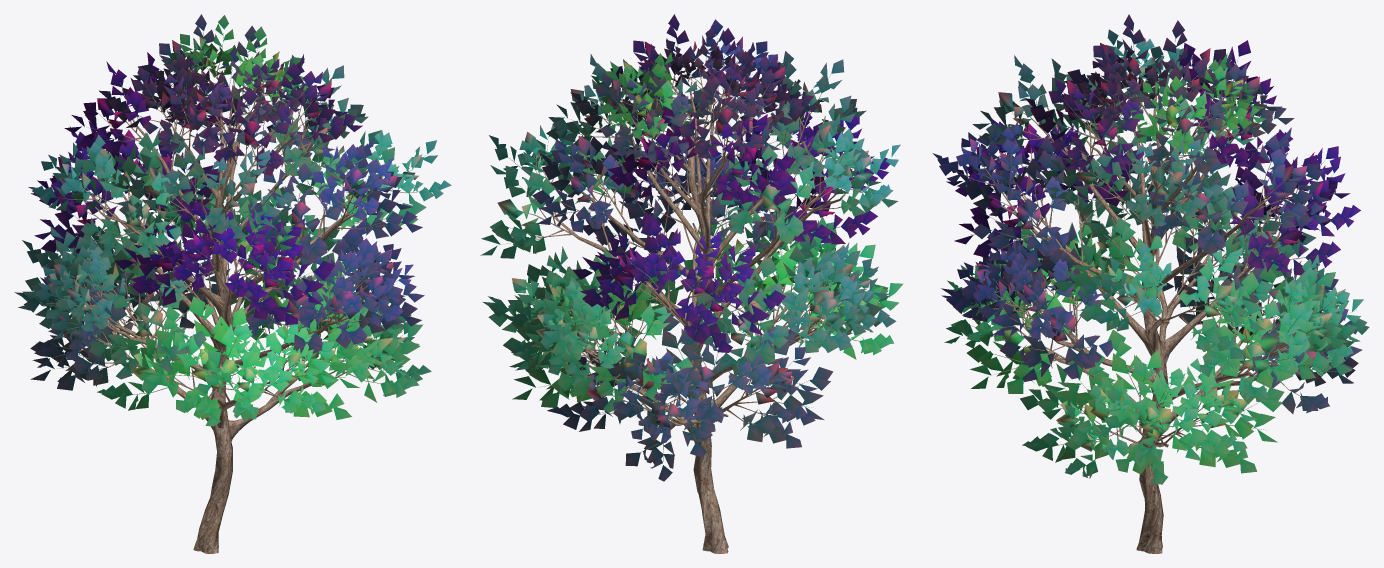
Rendered from Maple.fbx.
3 renders of one model, left to right at view 1: azimuth 30°, elevation 25°; view 2: azimuth 150°, elevation 25°; view 3: azimuth 270°, elevation 25°, orthographic. The views are drawn at different scales.
Parts seen in each view (by area): view 1: Tree_1, Tree_0; view 2: Tree_1, Tree_0; view 3: Tree_1, Tree_0.
Part boxes in pixels (x1,y1,x2,y2): Tree_1: (14,14,451,426); Tree_0: (40,29,431,553); Tree_1: (480,14,903,481); Tree_0: (497,38,889,553); Tree_1: (932,14,1369,484); Tree_0: (941,31,1348,553).
Size of the model in its own units: 495 by 578 by 450.
